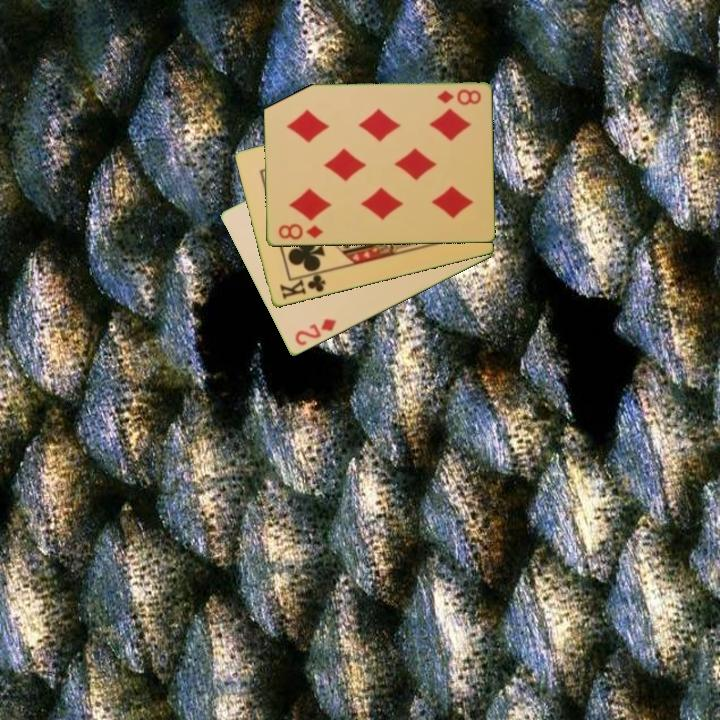2d: (291, 315, 339, 349)
8d: (274, 220, 325, 243), (433, 86, 483, 108)
Kc: (276, 269, 329, 303)
